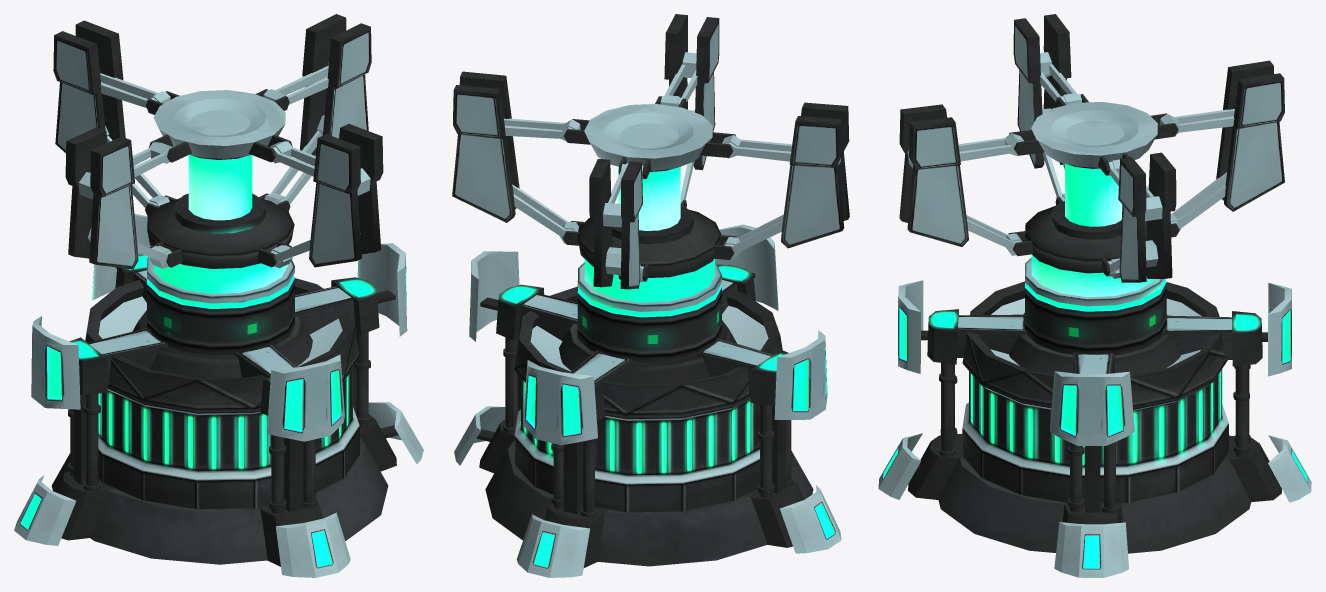
Rendered from shield_generator.glb.
3 renders of one model, left to right at view 1: azimuth 30°, elevation 25°; view 2: azimuth 150°, elevation 25°; view 3: azimuth 270°, elevation 25°, orthographic. The views are drawn at different scales.
Visible parts, largest first — view 1: Shield_generator:group30_Shield_generator:group29_Shield_gen, Shield_generator:pCylinder1, Shield_generator:polySurface1, Shield_generator:polySurface7 (×4), Shield_generator:polySurface8 (×3), Shield_generator:polySurface6 (×3), Shield_generator:polySurface3 (×3), Shield_generator:pCylinder3, Shield_generator:polySurface5 (×2), Shield_generator:polySurface4 (×2), Shield_generator:pCylinder11 (×2), Shield_generator:pCylinder16 (×2); view 2: Shield_generator:group30_Shield_generator:group29_Shield_gen, Shield_generator:pCylinder1, Shield_generator:polySurface7 (×4), Shield_generator:polySurface1, Shield_generator:polySurface8 (×3), Shield_generator:polySurface6 (×3), Shield_generator:polySurface3 (×3), Shield_generator:polySurface5 (×3), Shield_generator:pCylinder3, Shield_generator:polySurface4 (×2), Shield_generator:pCylinder16 (×2), Shield_generator:pCylinder11 (×2); view 3: Shield_generator:group30_Shield_generator:group29_Shield_gen, Shield_generator:pCylinder1, Shield_generator:polySurface1, Shield_generator:polySurface7 (×3), Shield_generator:polySurface8 (×3), Shield_generator:polySurface6 (×3), Shield_generator:polySurface3 (×3), Shield_generator:pCylinder3, Shield_generator:polySurface5 (×2), Shield_generator:pCylinder16 (×2), Shield_generator:pCylinder11 (×2), Shield_generator:polySurface4.
Boxes of the visible parts, x1,y1,x2,y2 form: Shield_generator:group30_Shield_generator:group29_Shield_gen: (53,14,383,355); Shield_generator:pCylinder1: (85,278,359,509); Shield_generator:polySurface1: (51,437,388,564); Shield_generator:polySurface7 (×4): (31,213,407,441); Shield_generator:polySurface8 (×3): (14,402,423,577); Shield_generator:polySurface6 (×3): (88,286,355,384); Shield_generator:polySurface3 (×3): (55,416,396,566); Shield_generator:pCylinder3: (132,310,312,377); Shield_generator:polySurface5 (×2): (69,277,379,394); Shield_generator:polySurface4 (×2): (74,394,303,512); Shield_generator:pCylinder11 (×2): (271,331,368,513); Shield_generator:pCylinder16 (×2): (86,393,315,503); Shield_generator:group30_Shield_generator:group29_Shield_gen: (452,14,849,362); Shield_generator:pCylinder1: (514,286,782,512); Shield_generator:polySurface7 (×4): (469,224,827,445); Shield_generator:polySurface1: (485,441,813,566); Shield_generator:polySurface8 (×3): (454,406,841,577); Shield_generator:polySurface6 (×3): (519,293,773,394); Shield_generator:polySurface3 (×3): (479,419,804,567); Shield_generator:polySurface5 (×3): (496,264,788,405); Shield_generator:pCylinder3: (559,320,736,384); Shield_generator:polySurface4 (×2): (563,405,785,514); Shield_generator:pCylinder16 (×2): (505,337,594,512); Shield_generator:pCylinder11 (×2): (553,404,772,508); Shield_generator:group30_Shield_generator:group29_Shield_gen: (899,14,1284,355); Shield_generator:pCylinder1: (962,281,1228,502); Shield_generator:polySurface1: (938,435,1251,553); Shield_generator:polySurface7 (×3): (898,280,1291,445); Shield_generator:polySurface8 (×3): (878,433,1311,577); Shield_generator:polySurface6 (×3): (957,314,1232,373); Shield_generator:polySurface3 (×3): (908,434,1281,524); Shield_generator:pCylinder3: (1009,312,1180,375); Shield_generator:polySurface5 (×2): (927,309,1262,366); Shield_generator:pCylinder16 (×2): (941,363,1115,508); Shield_generator:pCylinder11 (×2): (1070,365,1247,511); Shield_generator:polySurface4: (1085,446,1100,512).
Size of the model in its own units: 8.4 by 8.4 by 8.39.
Materials: 1 (1 with a texture image).
